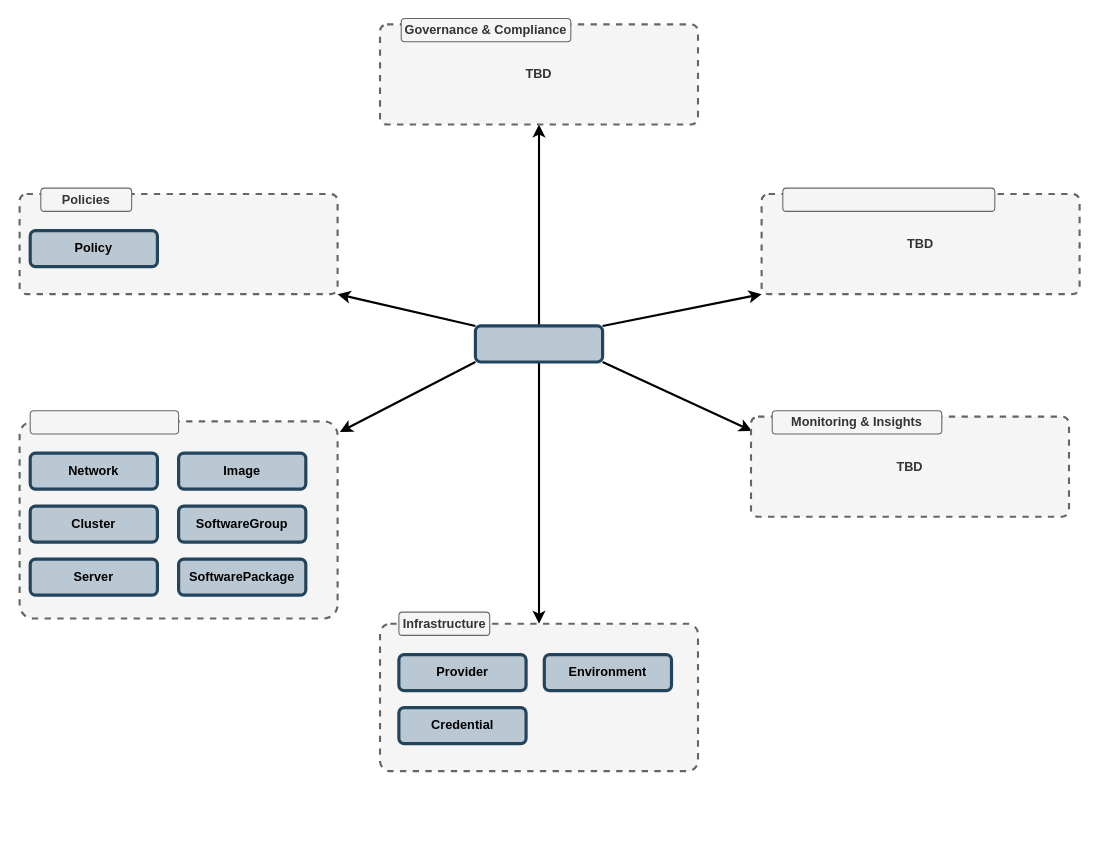
Image size: 1098x843. Some labels were removed from this diagram. The centre of each missing label's shape, as x and y in pixels:
"Compute & Networks" goes at point (104, 422).
"Developer Services & Enablement" goes at point (888, 199).
"Platform" goes at point (538, 343).
